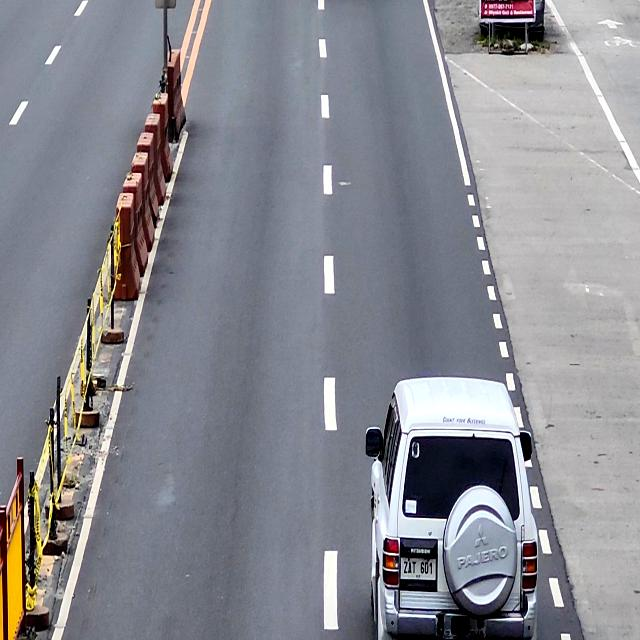Car: (363, 376, 540, 640)
License-Plate: (401, 556, 436, 582)
